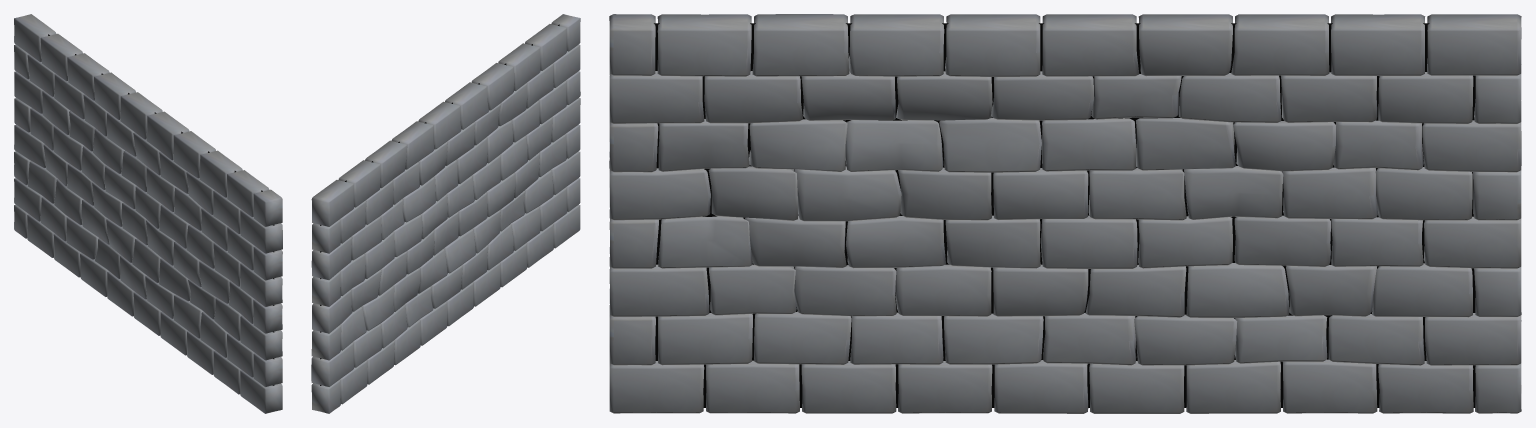
The model's file is Plain_Brick_Wall.fbx.
3 views of the same model, side by side, from view 1: azimuth 30°, elevation 25°; view 2: azimuth 150°, elevation 25°; view 3: azimuth 270°, elevation 25° (orthographic). The views are drawn at different scales.
Parts seen in each view (by area): view 1: Cube; view 2: Cube; view 3: Cube.
Boxes of the visible parts, x1,y1,x2,y2 form: Cube: (14,14,282,413); Cube: (311,14,580,413); Cube: (609,14,1521,413).
Bounding box in the file's own units: 0.9041 × 18.02 × 8.41.
Materials: 2 (1 with a texture image).
